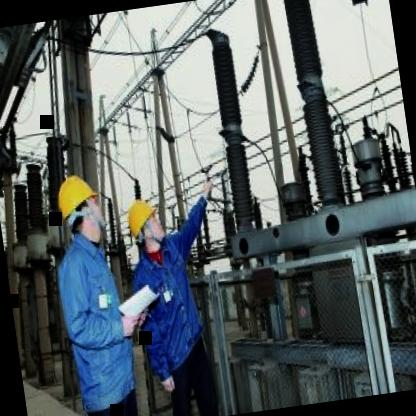helmet: (51, 170, 109, 246), (122, 195, 164, 250)
